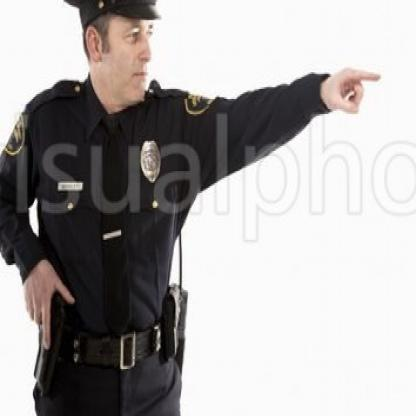gun: (28, 290, 66, 404)
